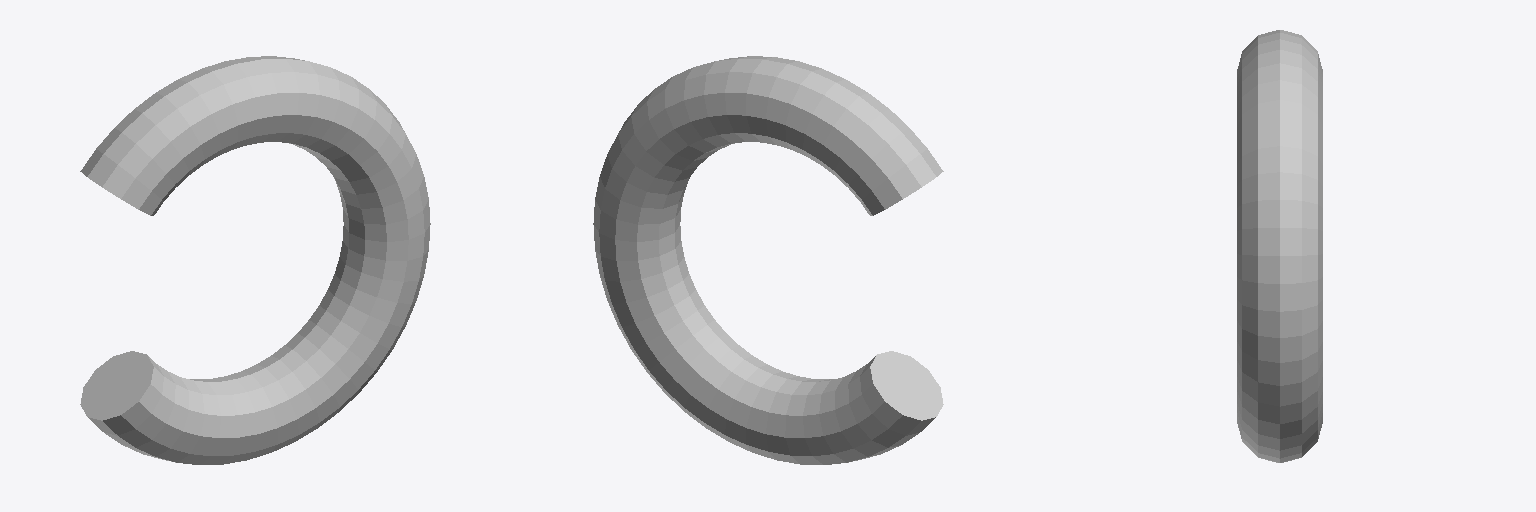
The model's file is enemyRightHand.obj.
3 renders of one model, left to right at view 1: azimuth 30°, elevation 25°; view 2: azimuth 150°, elevation 25°; view 3: azimuth 270°, elevation 25°, orthographic.
Visible parts, largest first — view 1: トーラス; view 2: トーラス; view 3: トーラス.
Boxes of the visible parts, <box> form: トーラス: <box>80,56,430,464</box>; トーラス: <box>593,56,943,464</box>; トーラス: <box>1237,30,1322,462</box>.
Bounding box in the file's own units: 2.24 × 2.5 × 0.5.